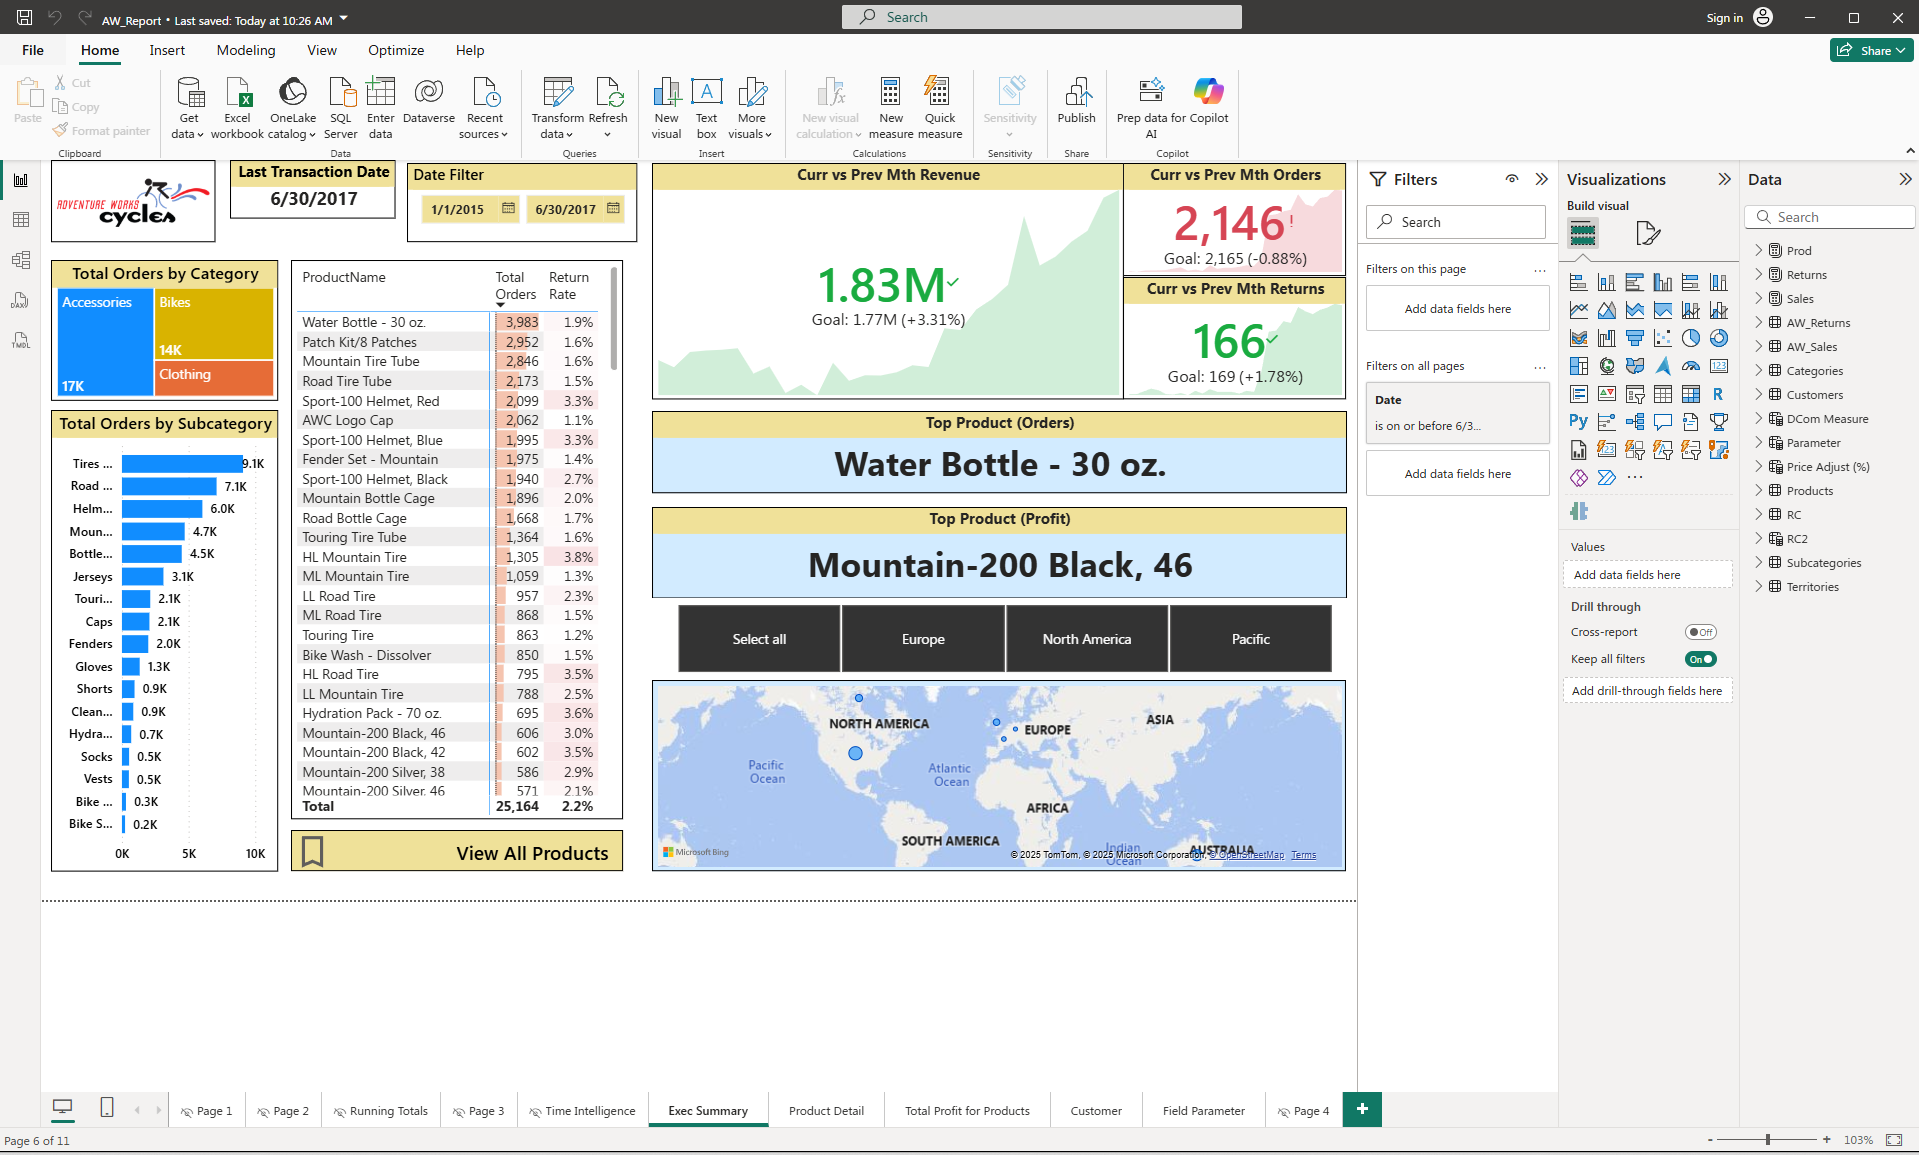

The page's visual inventory and layout, read from the dashboard file:
{"tool":"powerbi","page":{"name":"Exec Summary","canvas":[1280,720],"ordinal":5},"visuals":[{"type":"image","box":[10,0,160,80],"z":0},{"type":"barChart","title":"Total Orders by Subcategory","fields":{"Category":["Subcategories.SubcategoryName"],"Y":["Sales.Total Orders"]},"box":[10,242.9,221.4,448.6],"z":1000},{"type":"treemap","title":"Total Orders by Category","fields":{"Group":["Categories.CategoryName","Subcategories.SubcategoryName"],"Values":["Sales.Total Orders"]},"box":[9.5,97,220.9,136.7],"z":2000},{"type":"pivotTable","fields":{"Rows":["Categories.CategoryName","Subcategories.SubcategoryName","Products.ProductName"],"Values":["Sales.Total Orders","Returns.Return Rate"]},"box":[242.9,97.1,322.9,544.3],"z":3000},{"type":"card","title":"Last Transaction Date","fields":{"Values":["Sales.Last Date"]},"box":[184.3,0,161.4,57.1],"z":4000},{"type":"slicer","title":"Date Filter","fields":{"Values":["RC.Date"]},"box":[355.7,2.9,224.3,77.1],"z":5000},{"type":"kpi","title":"Curr vs Prev Mth Orders","fields":{"Indicator":["Sales.Total Orders"],"TrendLine":["RC.StartMth"],"Goal":["Sales.Prev Month Order"]},"box":[1052.9,2.9,217.1,110],"z":6000},{"type":"kpi","title":"Curr vs Prev Mth Revenue","fields":{"TrendLine":["RC.StartMth"],"Indicator":["Sales.Total Revenue"],"Goal":["Sales.Prev Month Revenue"]},"box":[594.3,2.9,458.6,230],"z":7000},{"type":"kpi","title":"Curr vs Prev Mth Returns","fields":{"TrendLine":["RC.StartMth"],"Indicator":["Returns.Total Returns"],"Goal":["Returns.Prev Month Returns"]},"box":[1052.4,113.8,217.2,118.9],"z":8000},{"type":"card","title":"Top Product (Orders)","fields":{"Values":["Min(Products.ProductName)"]},"box":[594.3,244.3,675.7,80],"z":9000},{"type":"card","title":"Top Product (Profit)","fields":{"Values":["Min(Products.ProductName)"]},"box":[594.3,337.1,675.7,88.6],"z":10000},{"type":"map","fields":{"Category":["Territories.Country"],"Size":["Sales.Total Orders"]},"box":[594.4,505.4,675.5,186],"z":11000},{"type":"slicer","fields":{"Values":["Territories.Continent"]},"box":[594.4,426,685,79.5],"z":12000},{"type":"actionButton","box":[242.9,651.4,322.9,40],"z":13000}]}

Visuals, with their boxes on the page's 1280x720 design canvas (x1, y1, x2, y2). These are canvas units, not pixel positions in the 1919x1155 screenshot, which may show the page scaled, cropped or inside an application window:
image: x1=10, y1=0, x2=170, y2=80
"Total Orders by Subcategory" barChart: x1=10, y1=243, x2=231, y2=692
"Total Orders by Category" treemap: x1=10, y1=97, x2=230, y2=234
pivotTable - Categories.CategoryName x Subcategories.SubcategoryName: x1=243, y1=97, x2=566, y2=641
"Last Transaction Date" card: x1=184, y1=0, x2=346, y2=57
"Date Filter" slicer: x1=356, y1=3, x2=580, y2=80
"Curr vs Prev Mth Orders" kpi: x1=1053, y1=3, x2=1270, y2=113
"Curr vs Prev Mth Revenue" kpi: x1=594, y1=3, x2=1053, y2=233
"Curr vs Prev Mth Returns" kpi: x1=1052, y1=114, x2=1270, y2=233
"Top Product (Orders)" card: x1=594, y1=244, x2=1270, y2=324
"Top Product (Profit)" card: x1=594, y1=337, x2=1270, y2=426
map - Territories.Country x Sales.Total Orders: x1=594, y1=505, x2=1270, y2=691
slicer - Territories.Continent: x1=594, y1=426, x2=1279, y2=506
actionButton: x1=243, y1=651, x2=566, y2=691
